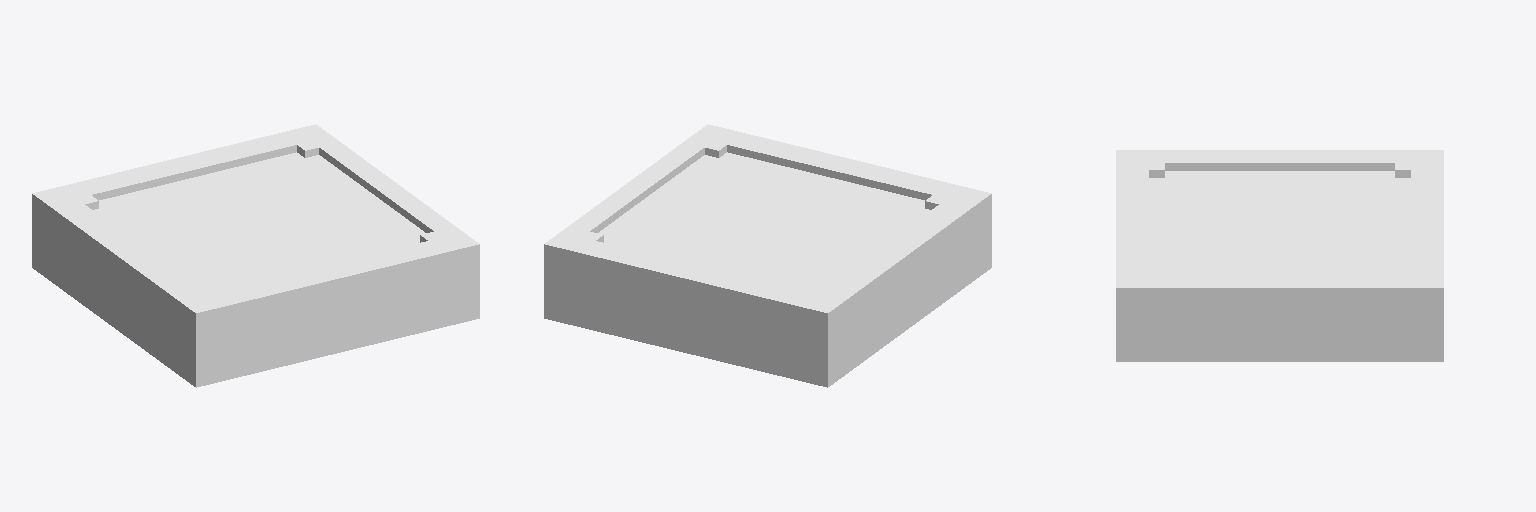
File: cubito_lava_corner.obj
3 views of the same model, side by side, from view 1: azimuth 30°, elevation 25°; view 2: azimuth 150°, elevation 25°; view 3: azimuth 270°, elevation 25° (orthographic).
Visible parts, largest first — view 1: object 1; view 2: object 1; view 3: object 1.
Boxes of the visible parts, x1,y1,x2,y2 form: object 1: [32, 124, 479, 387]; object 1: [544, 124, 991, 387]; object 1: [1116, 150, 1443, 361].
Size of the model in its own units: 4 by 1 by 4.